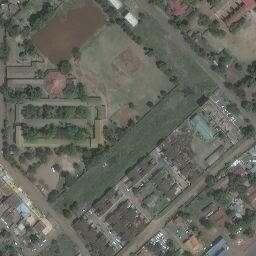tree: (241, 126, 255, 140), (60, 84, 75, 97), (214, 189, 229, 202), (57, 60, 71, 73), (208, 19, 220, 34), (240, 101, 253, 112), (211, 65, 228, 73), (198, 14, 210, 25), (226, 103, 239, 113), (46, 190, 57, 201), (204, 174, 215, 185), (218, 56, 230, 65), (230, 23, 241, 32), (61, 209, 71, 218), (155, 60, 165, 69), (199, 217, 209, 226), (8, 144, 17, 154), (34, 69, 44, 78), (29, 234, 38, 244), (214, 30, 226, 37), (27, 165, 36, 174), (51, 164, 61, 172), (38, 155, 48, 163), (234, 62, 242, 71), (73, 50, 80, 60), (23, 152, 33, 159), (31, 161, 41, 168), (72, 162, 80, 170), (225, 208, 233, 216), (127, 120, 134, 127), (128, 102, 134, 109), (169, 76, 176, 82), (18, 51, 25, 57), (18, 156, 24, 162), (145, 102, 152, 107), (69, 204, 75, 209), (159, 91, 165, 95), (72, 201, 76, 206)
